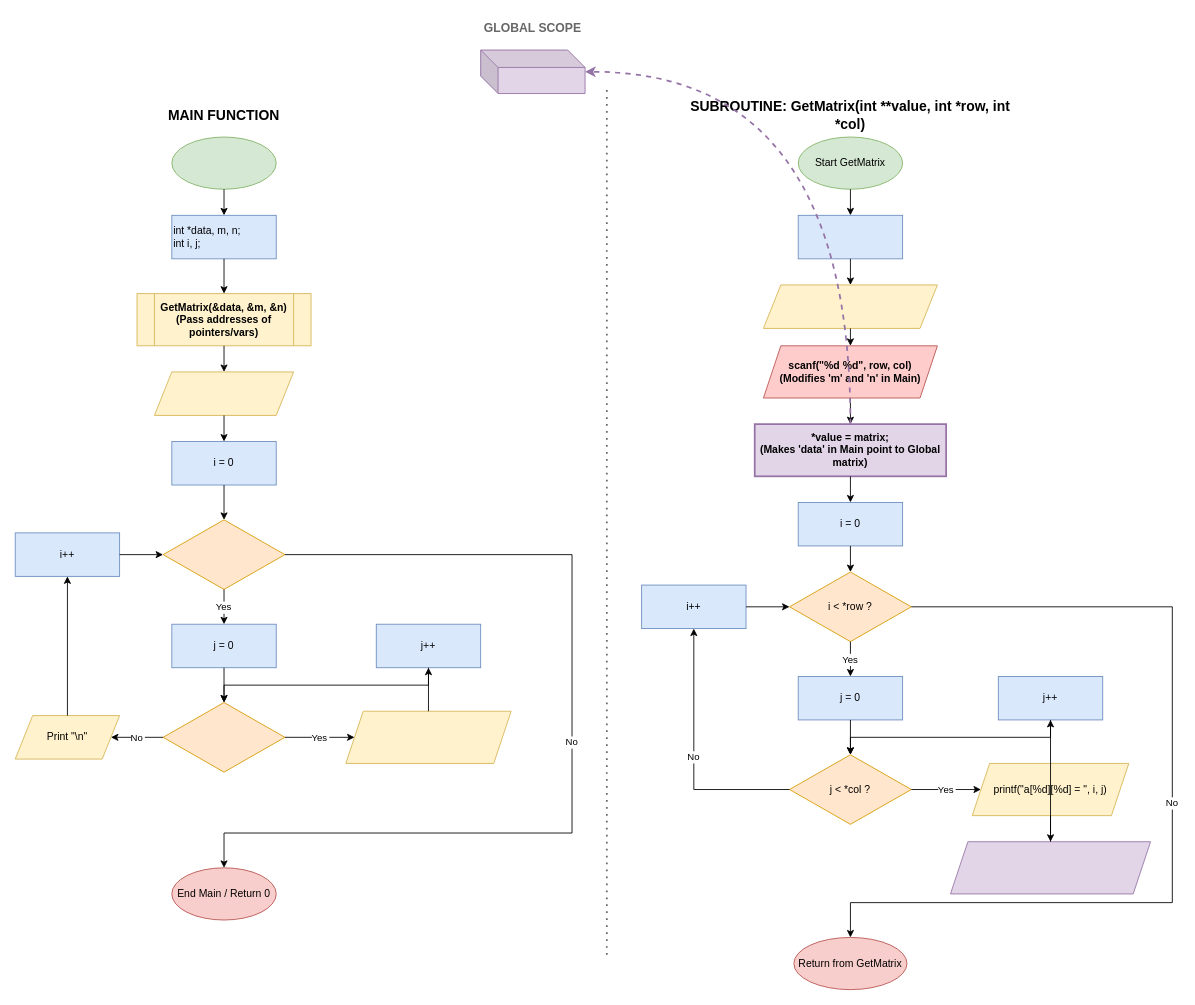
Some shapes in this 1195 by 1005 pixel diagram are drawn without their labels. The shapes that lost their labels are listed below. From the top down, each one's centre as x and y in pixels, then its label:
point (532, 71): int matrix[100];
point (223, 162): Start Main
point (850, 236): int i, j;
point (850, 306): Print "How many row, col ?"
point (224, 393): Print "\nMatrix:\n"
point (223, 554): i < m ?
point (223, 737): j < n ?
point (428, 736): printf("%d ", data[i*n + j]) (Access via pointer 'data')
point (1050, 867): scanf("%d", &matrix[i * (*col) + j]) (Populates GLOBAL matrix)
